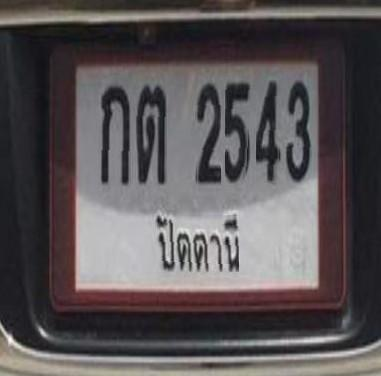2: (192, 81, 221, 183)
3: (285, 83, 309, 182)
4: (257, 80, 279, 184)
5: (225, 81, 248, 180)
A01: (97, 83, 132, 188)
A21: (137, 83, 173, 187)
PTN: (151, 211, 246, 278)
